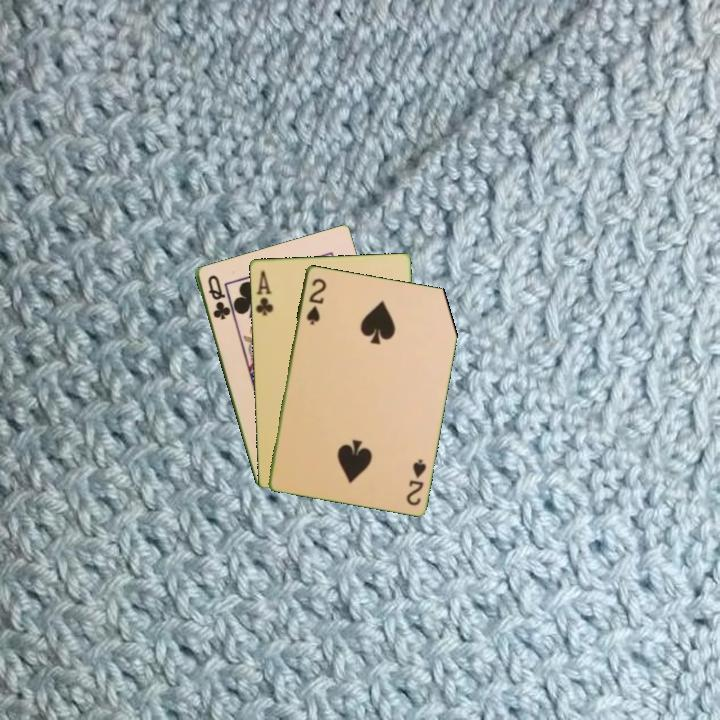2s: (303, 274, 329, 327), (403, 455, 429, 508)
Ac: (252, 267, 276, 318)
Qc: (204, 271, 233, 323)
